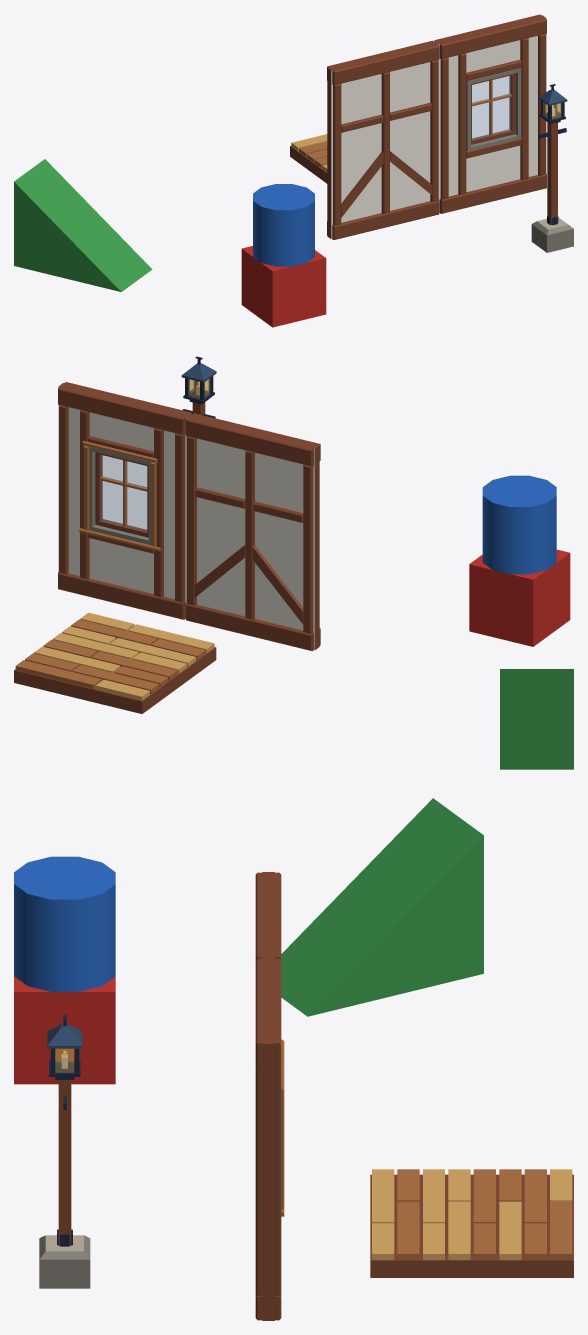
Rendered from FoundryStarterHouse.glb.
3 renders of one model, top to bottom at view 1: azimuth 30°, elevation 25°; view 2: azimuth 150°, elevation 25°; view 3: azimuth 270°, elevation 25°, orthographic. The views are drawn at different scales.
Visible parts, largest first — view 1: Wall timber 2 m, Wall timber 2 m window, Wedge, Cube, Cylinder, Lantern post large, Floor wood 2 m; view 2: Wall timber 2 m, Wall timber 2 m window, Floor wood 2 m, Wedge, Cube, Cylinder, Lantern post large; view 3: Wedge, Floor wood 2 m, Cylinder, Wall timber 2 m window, Cube, Lantern post large, Wall timber 2 m.
Boxes of the visible parts, x1,y1,x2,y2 form: Wall timber 2 m: [327, 40, 439, 239]; Wall timber 2 m window: [434, 14, 546, 213]; Wedge: [14, 159, 152, 291]; Cube: [241, 246, 326, 327]; Cylinder: [253, 184, 314, 266]; Lantern post large: [531, 84, 573, 252]; Floor wood 2 m: [290, 134, 327, 183]; Wall timber 2 m: [186, 413, 320, 651]; Wall timber 2 m window: [58, 382, 192, 619]; Floor wood 2 m: [14, 612, 216, 713]; Wedge: [500, 669, 573, 769]; Cube: [469, 549, 570, 646]; Cylinder: [482, 475, 556, 574]; Lantern post large: [181, 356, 216, 418]; Wedge: [281, 798, 483, 1016]; Floor wood 2 m: [370, 1169, 573, 1277]; Cylinder: [14, 856, 115, 991]; Wall timber 2 m window: [255, 958, 284, 1320]; Cube: [14, 976, 115, 1084]; Lantern post large: [39, 1015, 90, 1288]; Wall timber 2 m: [255, 872, 281, 960].
Size of the model in its own units: 8.93 by 3 by 5.5.
Materials: 7 (4 with a texture image).
